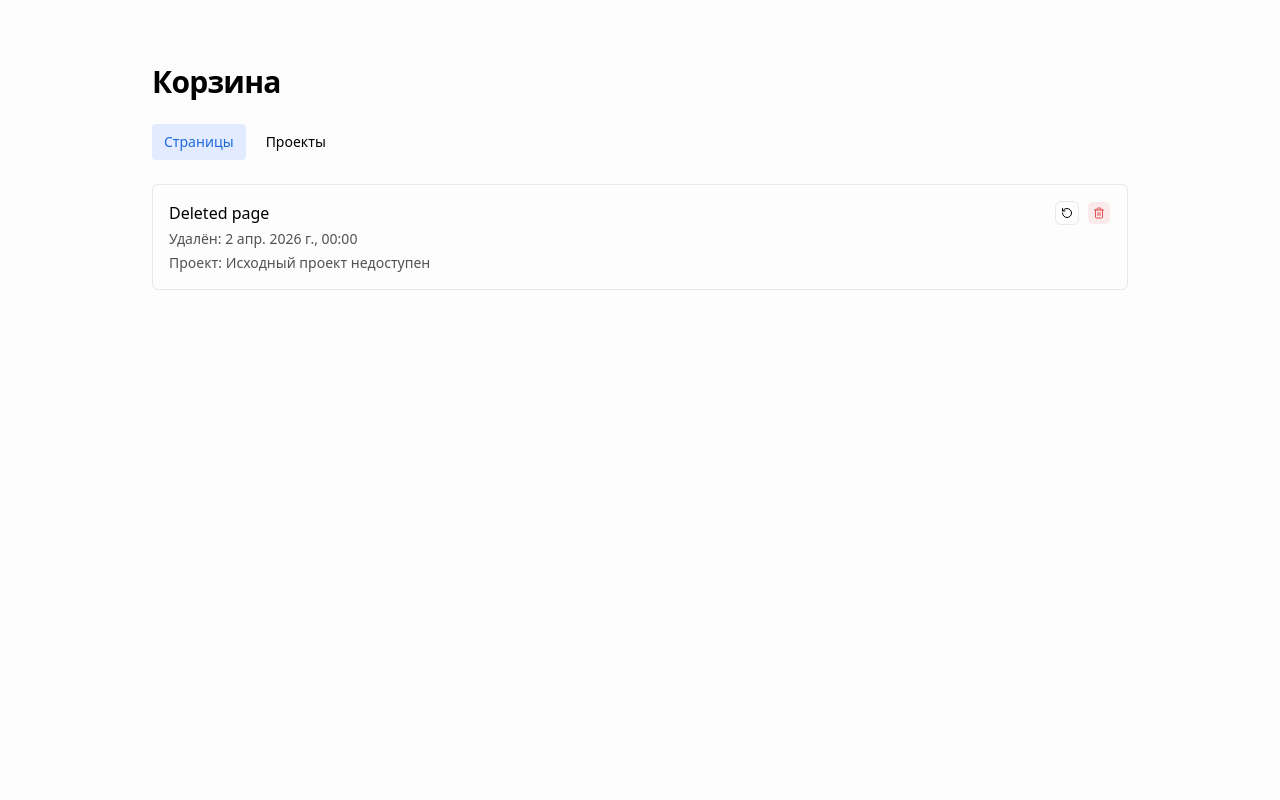
Test: корзина › не отправляет restore страницы, если активных проектов нет
Click the button named "Восстановить: Deleted page" at (1067, 213), box [1055, 201, 1079, 225]
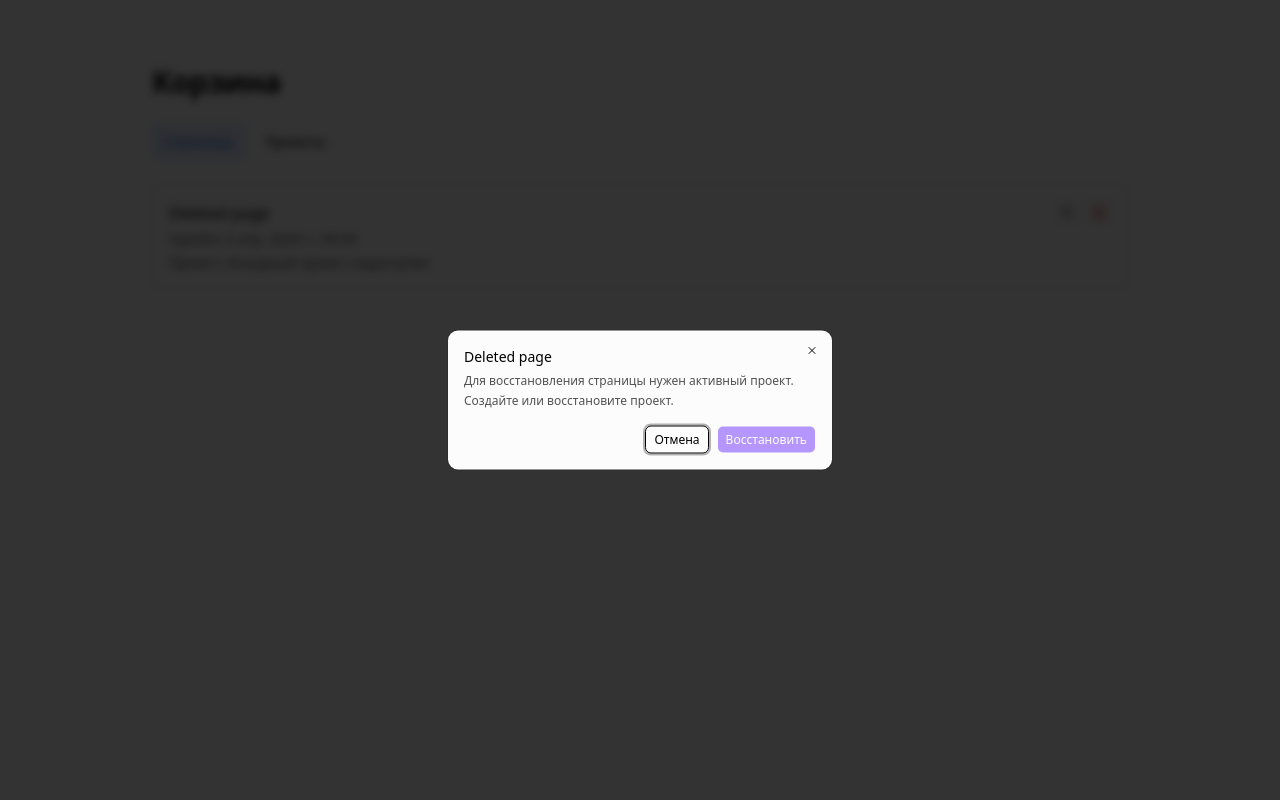
Check: the dialog shows "Для восстановления страницы нужен активный проект", box [464, 372, 794, 408]
Check: the button "Восстановить" is disabled, box [717, 426, 816, 454]
